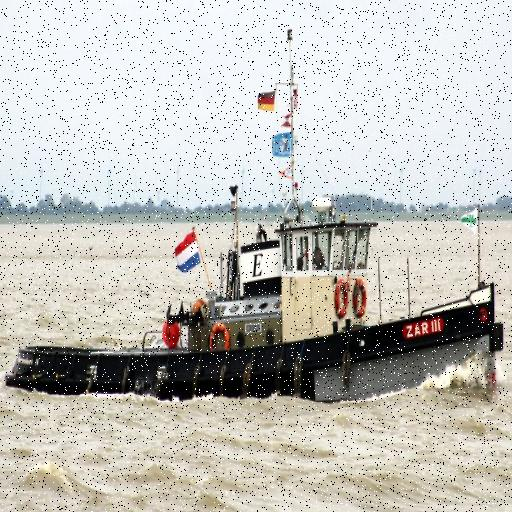tugboat: (2, 181, 508, 431)
